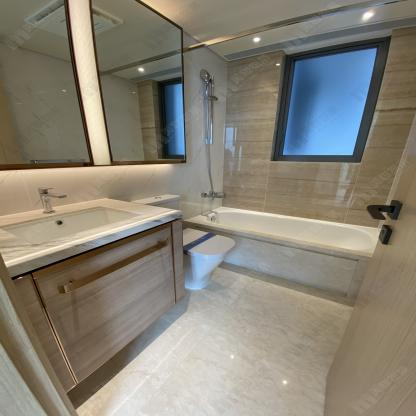Bathtub: (182, 207, 379, 300)
Toilet: (183, 228, 236, 289), (131, 194, 181, 210)
Toilet Sink: (0, 196, 183, 278)
